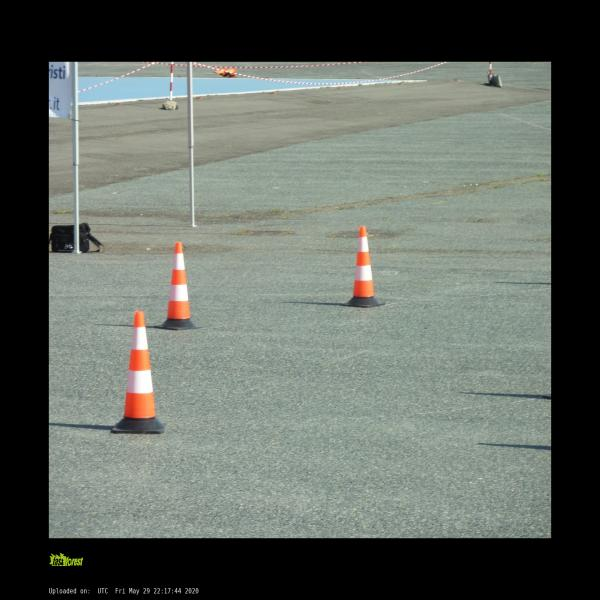large_orange_cone: (112, 311, 166, 435), (343, 226, 384, 308), (158, 242, 196, 330)
